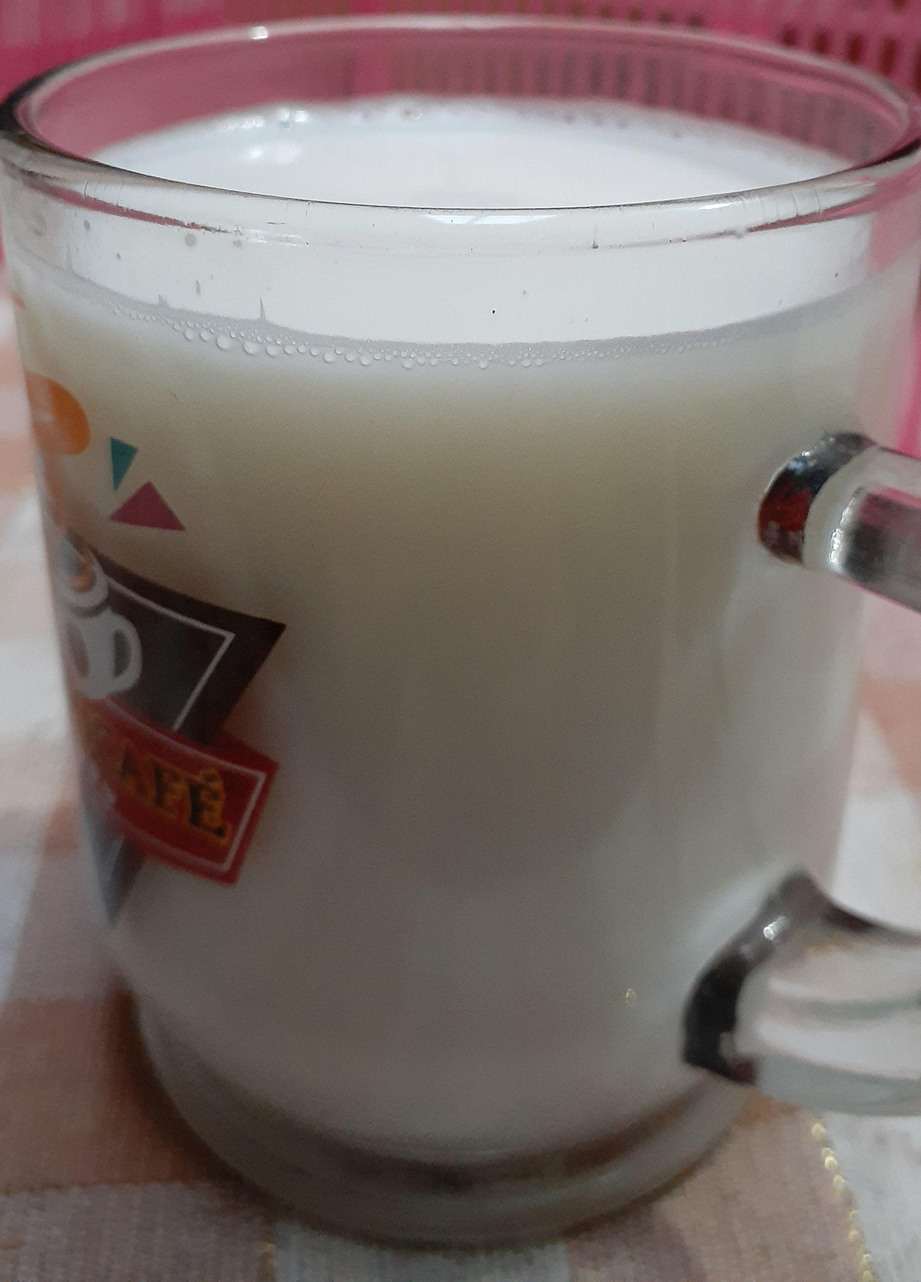produk_susu: (89, 116, 741, 1114)
